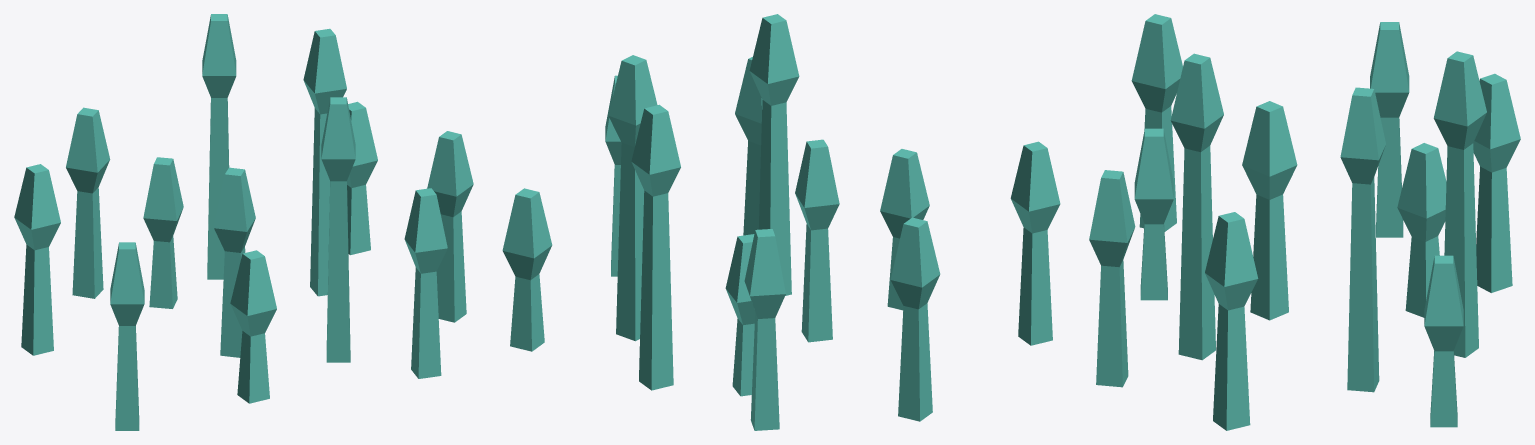
The model's file is crops_wheatStageA.glb.
3 views of the same model, side by side, from view 1: azimuth 30°, elevation 25°; view 2: azimuth 150°, elevation 25°; view 3: azimuth 270°, elevation 25° (orthographic). The views are drawn at different scales.
Parts seen in each view (by area): view 1: crops_wheatStageA; view 2: crops_wheatStageA; view 3: crops_wheatStageA.
Boxes of the visible parts, x1,y1,x2,y2 form: crops_wheatStageA: [14, 14, 473, 430]; crops_wheatStageA: [502, 14, 1060, 430]; crops_wheatStageA: [1089, 14, 1520, 430].
Bounding box in the file's own units: 0.5396 × 0.3349 × 0.4467.
